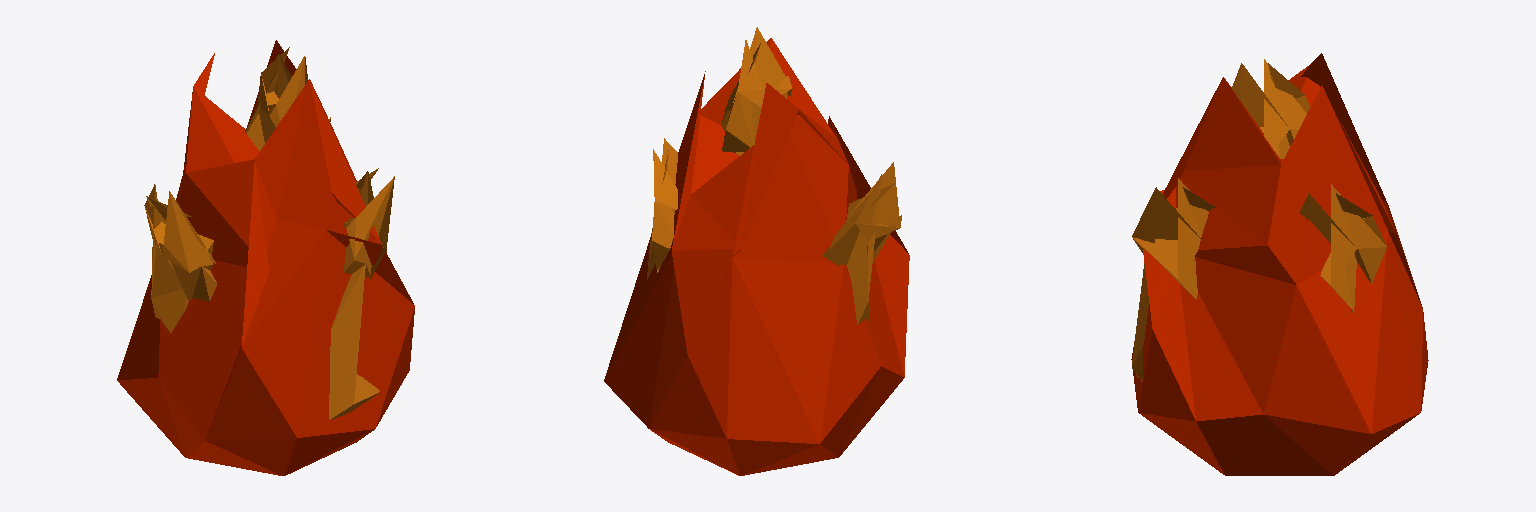
The model's file is tuz_lang.obj.
3 views of the same model, side by side, from view 1: azimuth 30°, elevation 25°; view 2: azimuth 150°, elevation 25°; view 3: azimuth 270°, elevation 25° (orthographic).
Visible parts, largest first — view 1: Icosphere, Icosphere.003, Icosphere.001, Icosphere.004; view 2: Icosphere, Icosphere.001, Icosphere.004, Icosphere.002; view 3: Icosphere, Icosphere.003, Icosphere.002, Icosphere.004.
Part boxes in pixels (bbox=[...]): Icosphere: bbox=[117, 40, 414, 475]; Icosphere.003: bbox=[329, 168, 394, 420]; Icosphere.001: bbox=[144, 184, 216, 332]; Icosphere.004: bbox=[245, 47, 307, 150]; Icosphere: bbox=[604, 38, 909, 475]; Icosphere.001: bbox=[822, 162, 901, 325]; Icosphere.004: bbox=[721, 27, 792, 155]; Icosphere.002: bbox=[647, 138, 677, 279]; Icosphere: bbox=[1131, 53, 1428, 475]; Icosphere.003: bbox=[1132, 178, 1215, 381]; Icosphere.002: bbox=[1299, 184, 1386, 313]; Icosphere.004: bbox=[1232, 59, 1310, 158].
Size of the model in its own units: 1.56 by 2.63 by 1.7.